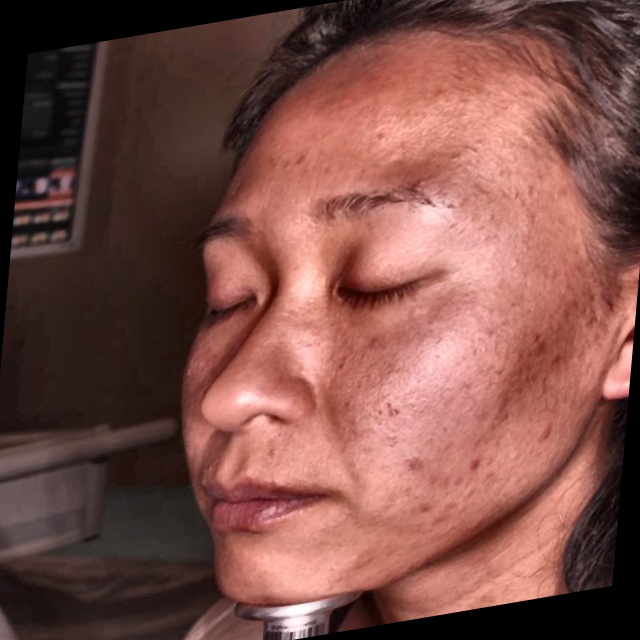comedone: (536, 422, 559, 446), (465, 450, 487, 472)
